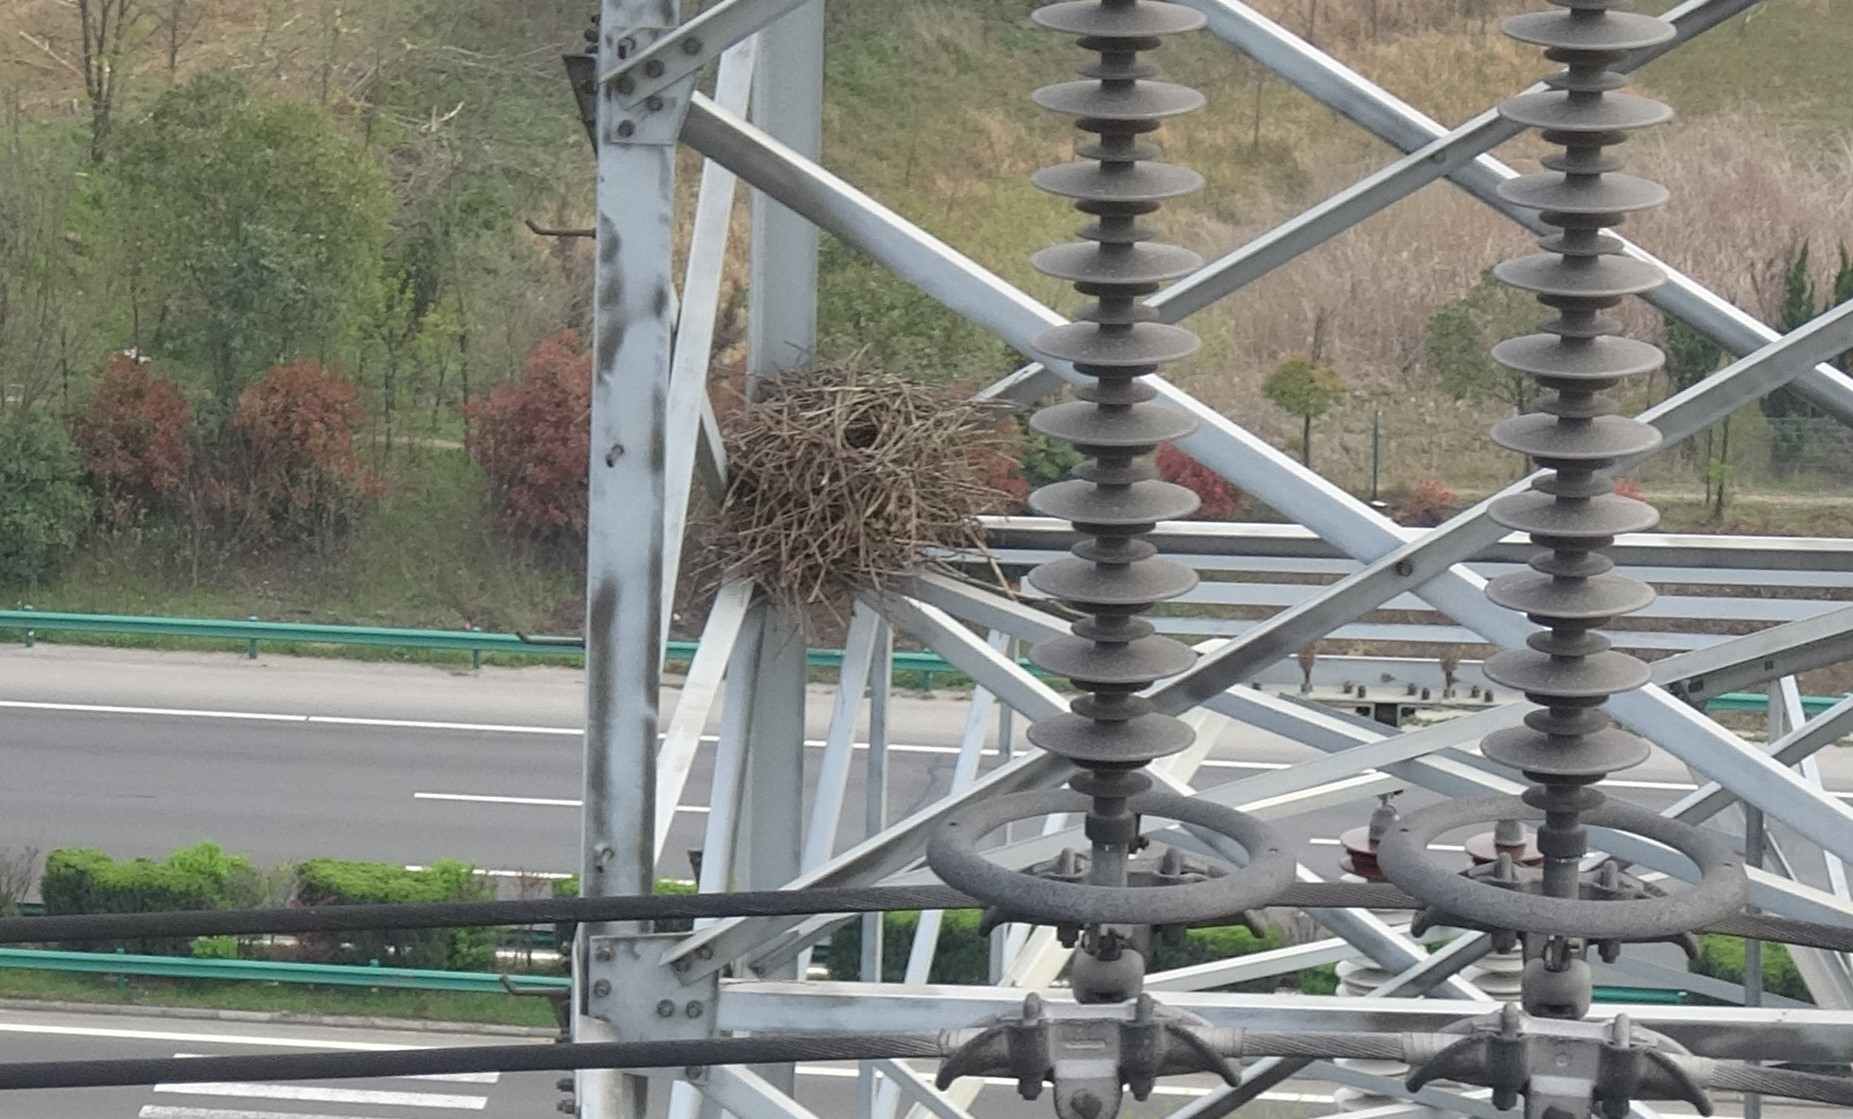niaowo: (682, 338, 1001, 620)
